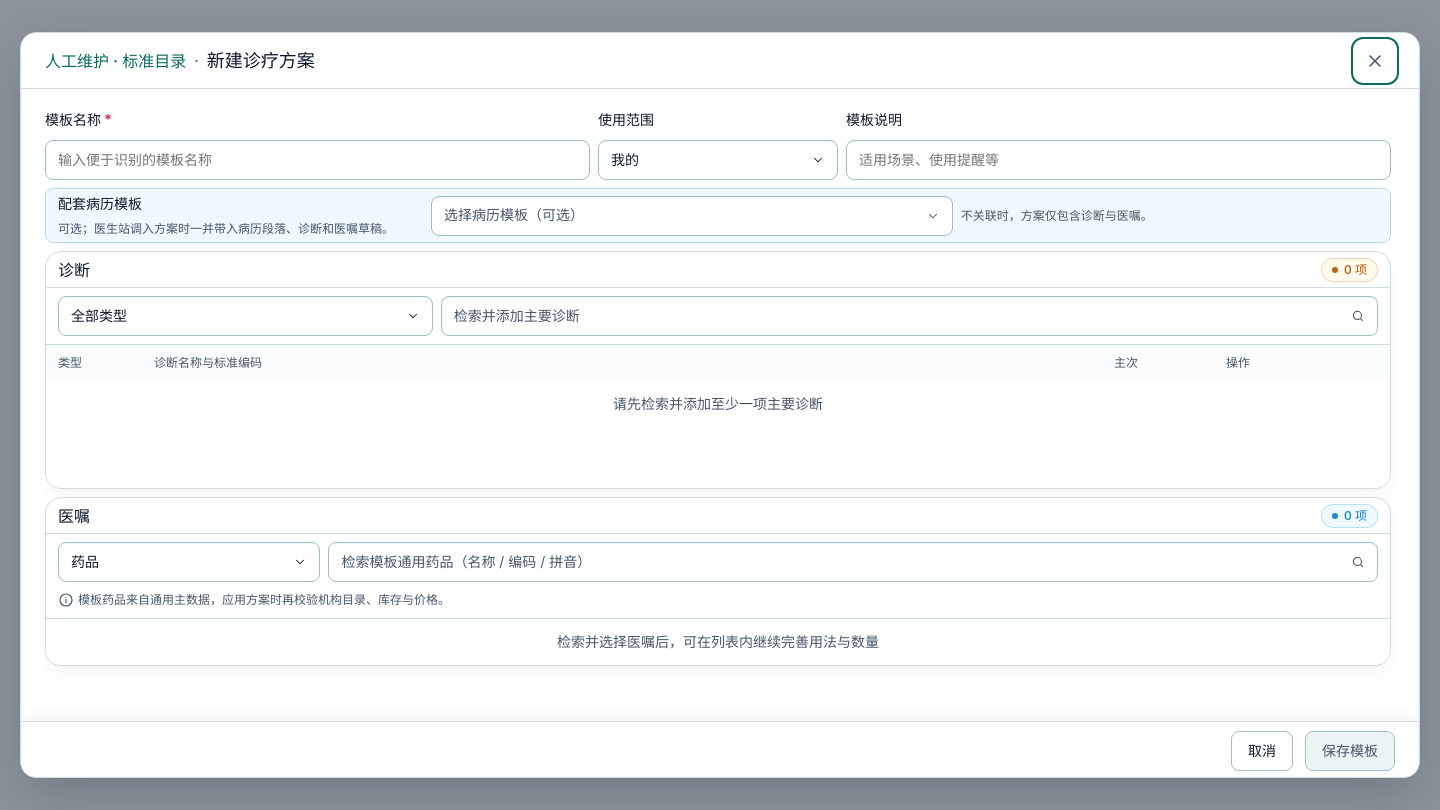
Test case: ManualClinicalTemplateDialog › searches template medications from generic master data instead of encounter orderables
The width and height of the screenshot is (1440, 810).
Click the dropdown named "模板医嘱检索" at (466, 562), box [328,542,1378,582]
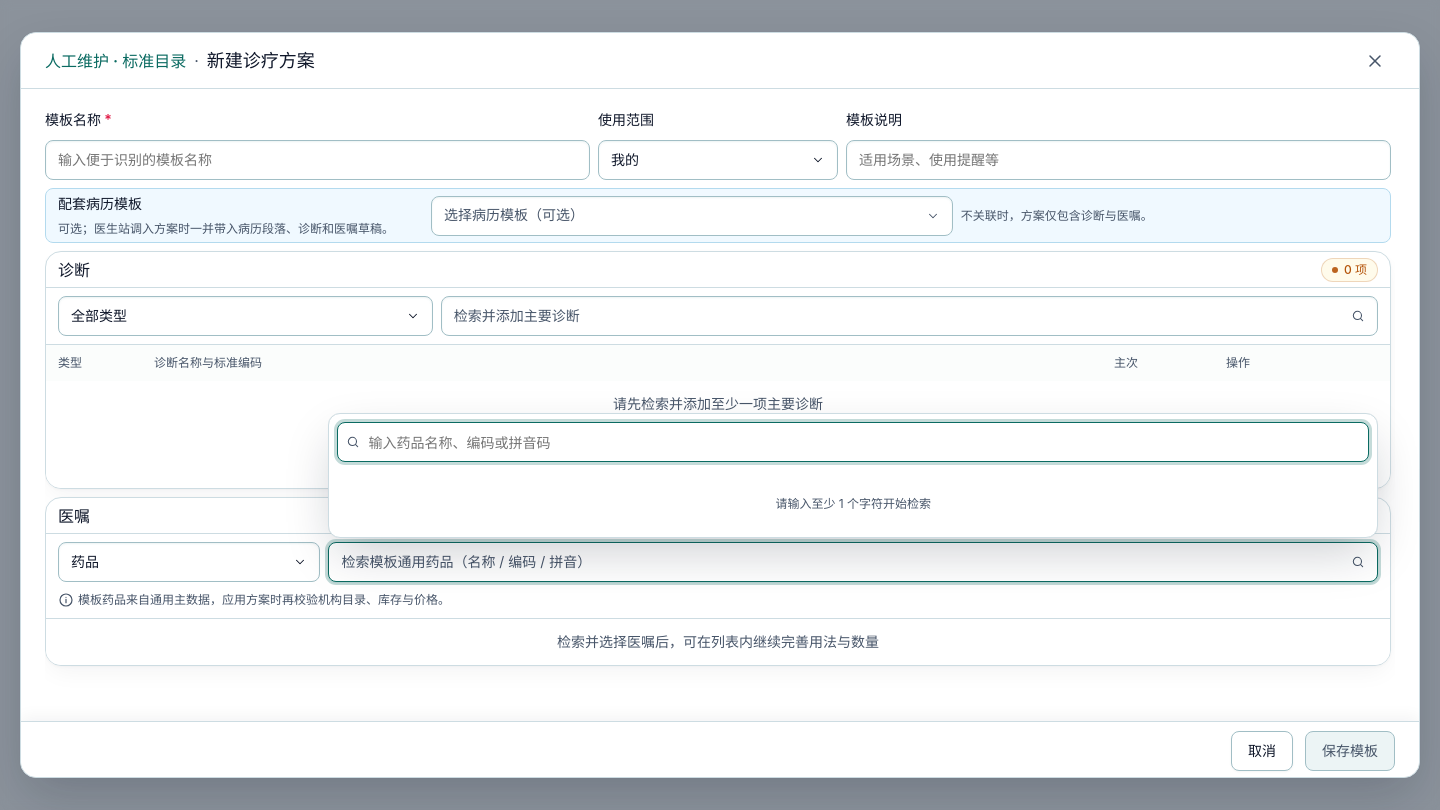
Type "阿莫西林" into the field with placeholder "输入药品名称、编码或拼音码" at (864, 442), box [368,426,1360,458]
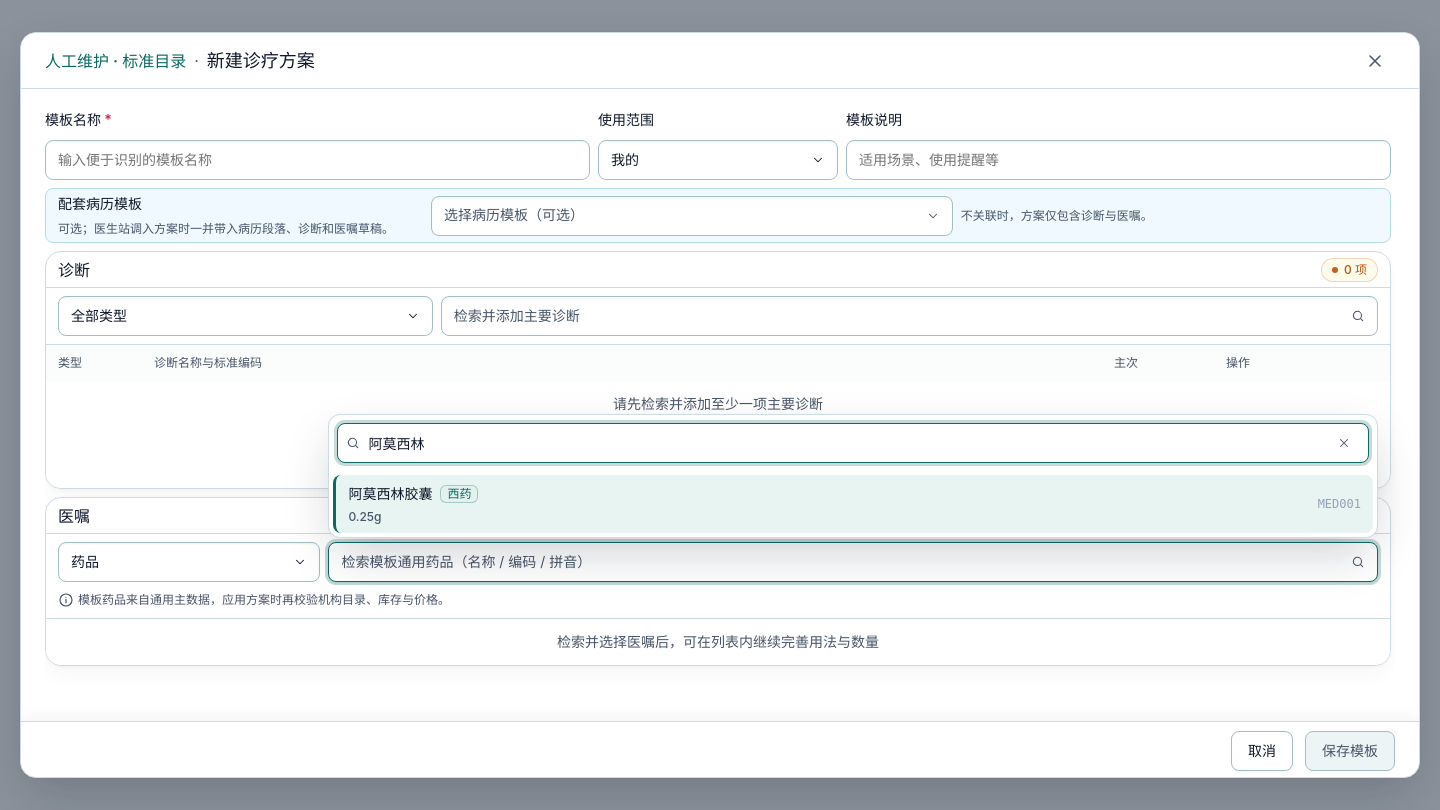
Click the option "阿莫西林胶囊 西药 0.25g MED001" at (390, 494), box [333,475,1373,533]
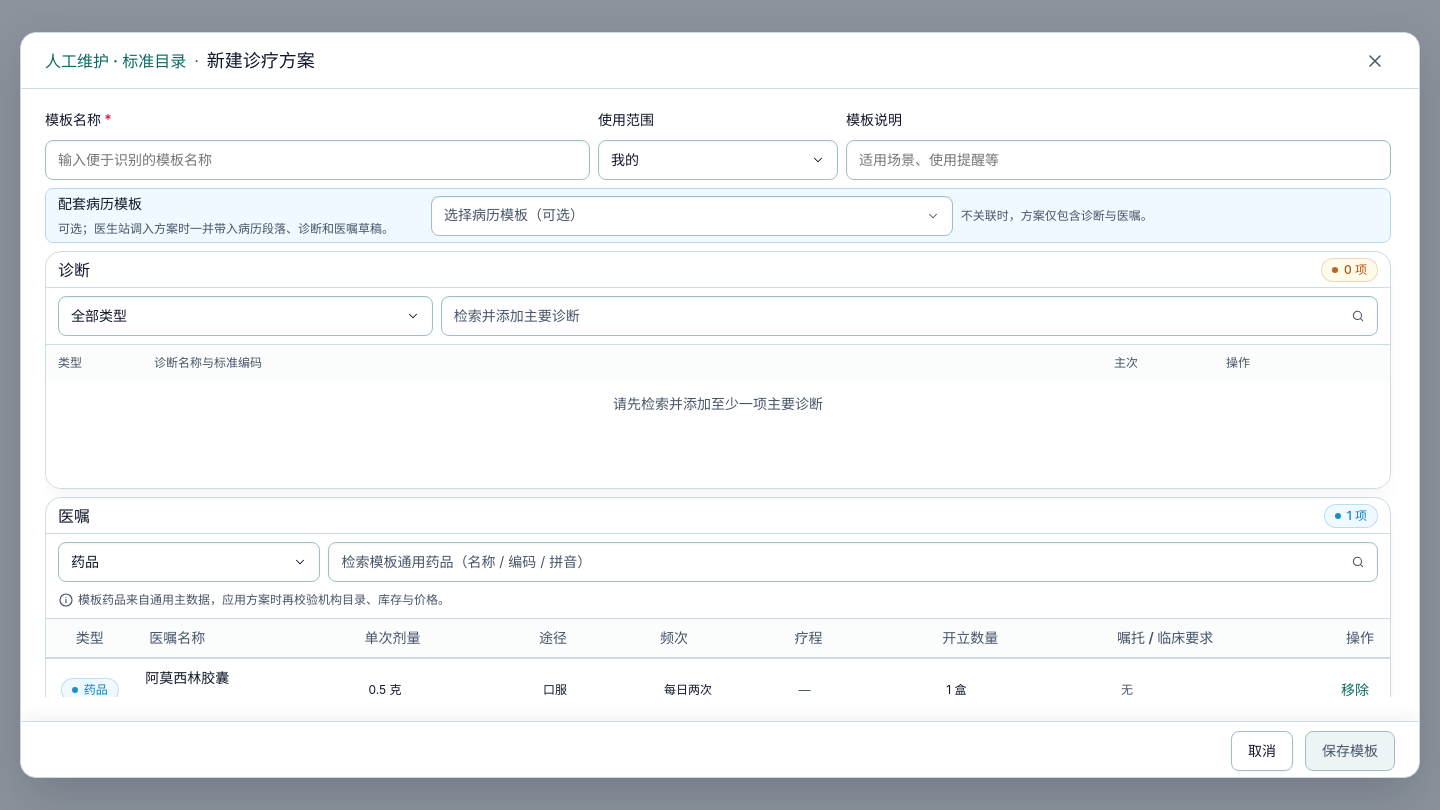
Expected: the element named "阿莫西林胶囊 单次剂量" holds "0.5", [368,682,402,697]
